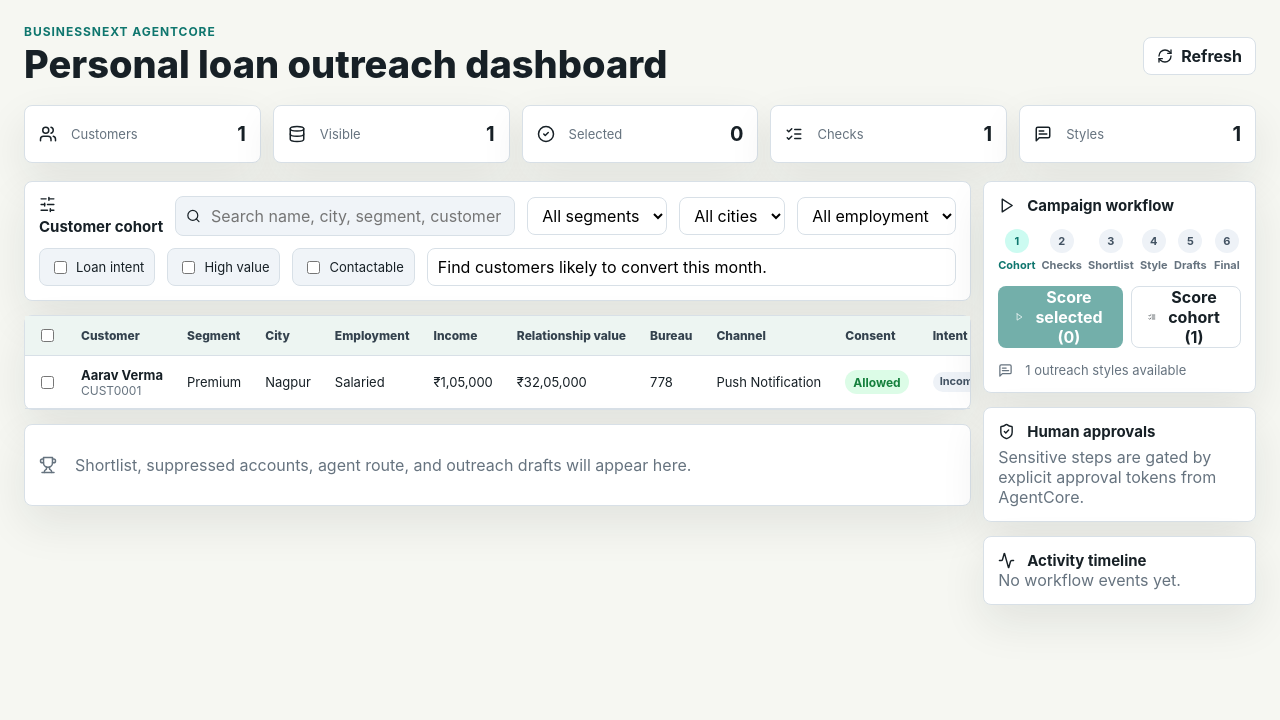
Test: Dashboard › opens check and style catalogs from the metric strip
The image size is (1280, 720).
Expected: the text "Aarav Verma" is shown, [81, 366, 163, 382]
Step 1. Click the button "Checks 1" → coordinates (889, 134), box [770, 105, 1007, 163]
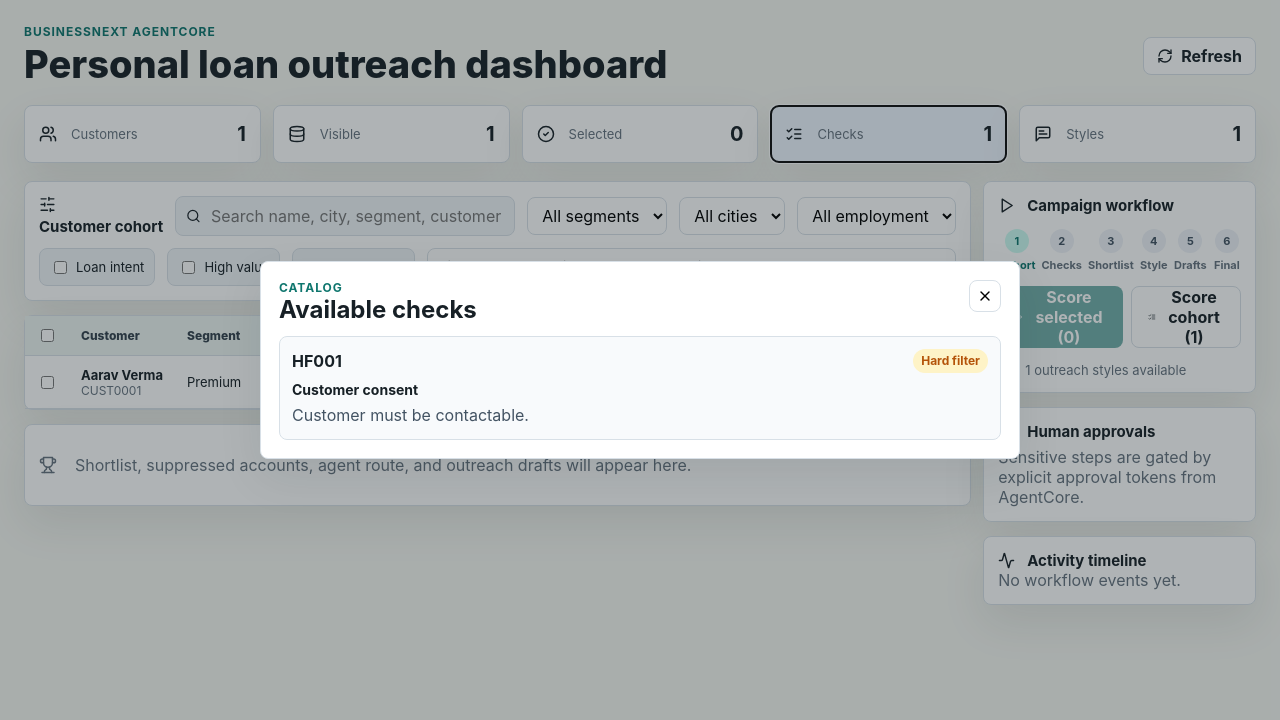
Now the dialog "Available checks" is shown, box [260, 261, 1020, 459]
Now the heading "Customer consent" is shown, box [292, 381, 418, 398]
Step 2. Click the button titled "Close catalog" → coordinates (985, 296), box [969, 280, 1001, 312]
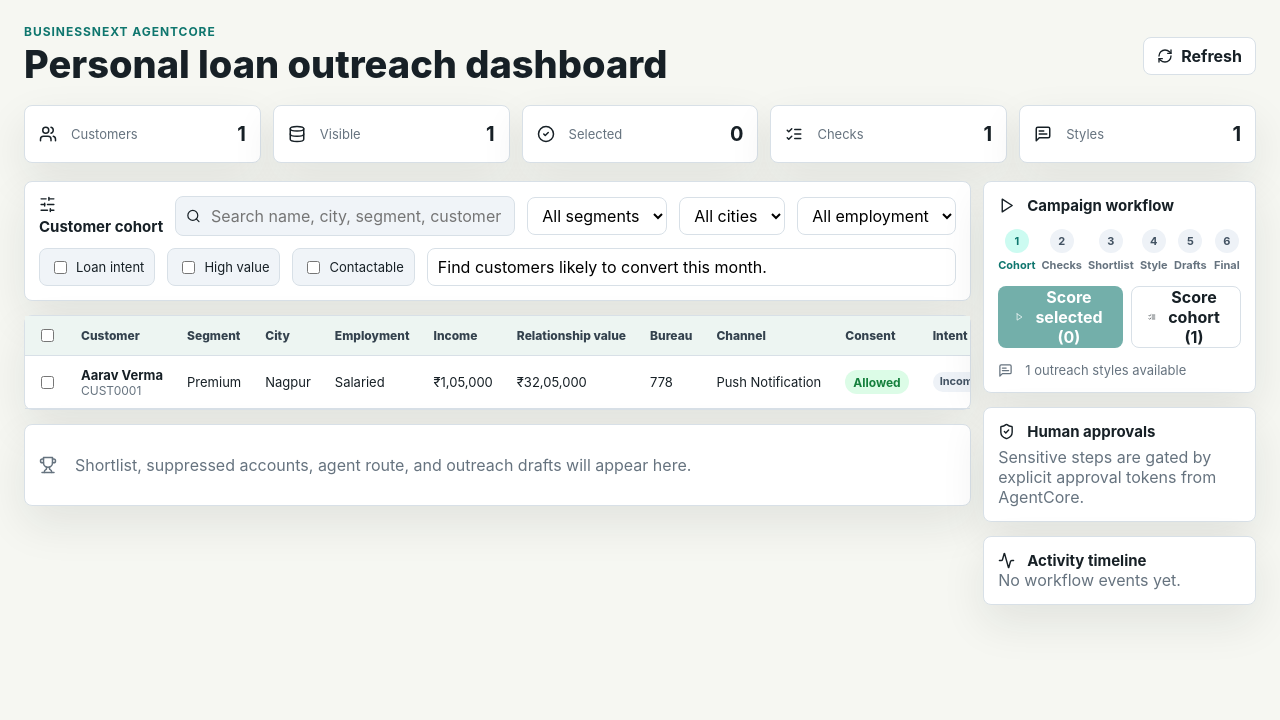
Step 3. Click the button "Styles 1" → coordinates (1138, 134), box [1019, 105, 1256, 163]
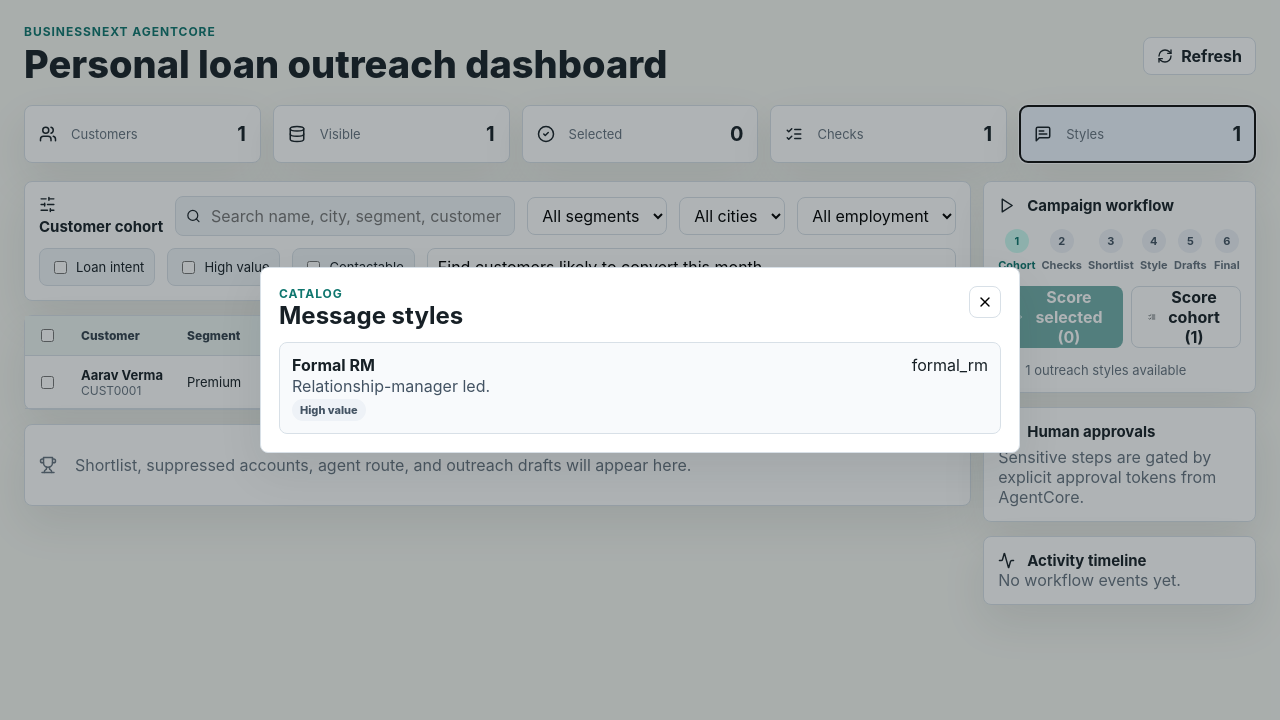
Now the dialog named "Available message styles" is shown, box [260, 267, 1020, 453]
Now the text "Formal RM" is shown, box [292, 355, 375, 375]
